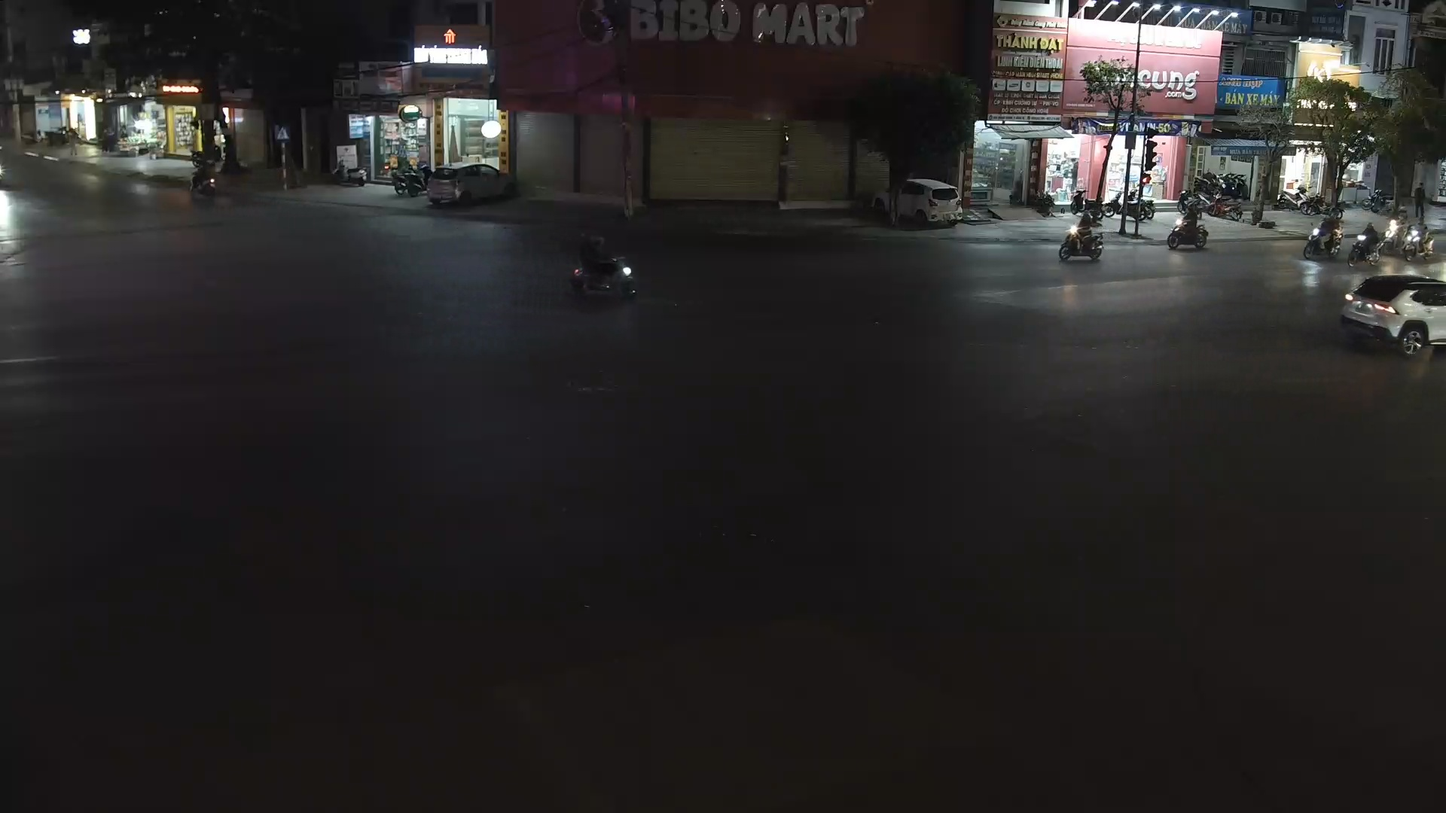car: (1341, 271, 1445, 358), (423, 158, 519, 208)
motorbike: (566, 230, 639, 304), (1057, 205, 1106, 263), (1165, 206, 1210, 253)
